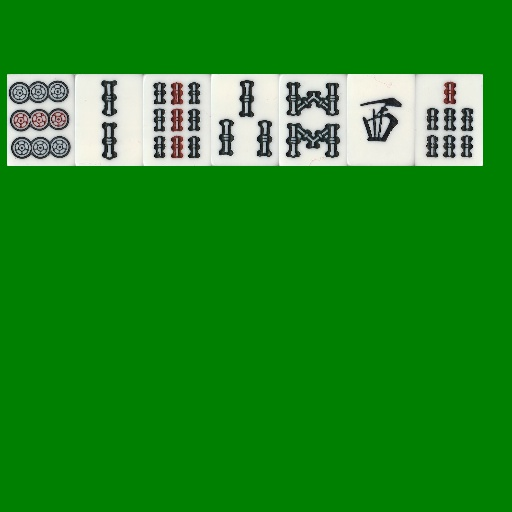2s: (75, 74, 143, 166)
3s: (211, 74, 279, 166)
7s: (415, 74, 483, 166)
8s: (279, 74, 347, 166)
9p: (7, 74, 75, 166)
9s: (143, 74, 211, 166)
west: (347, 74, 415, 166)
